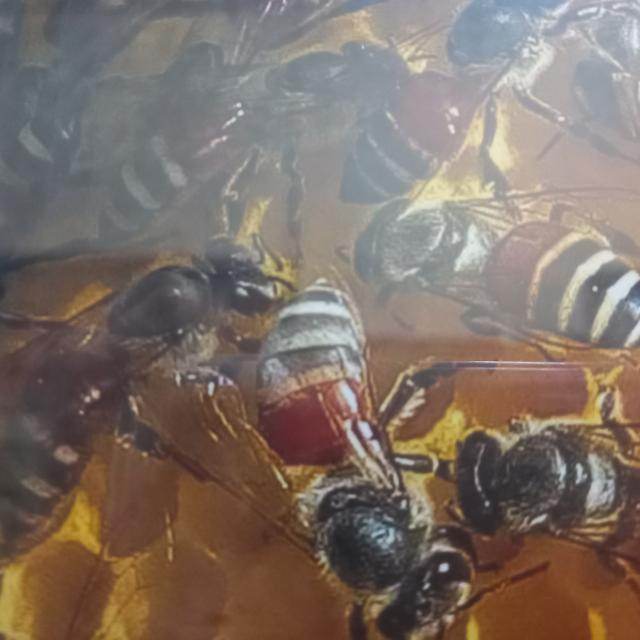honeybee: (254, 318, 406, 578), (331, 188, 640, 313), (461, 393, 640, 561), (77, 220, 258, 370), (0, 383, 134, 548), (217, 17, 400, 109)
